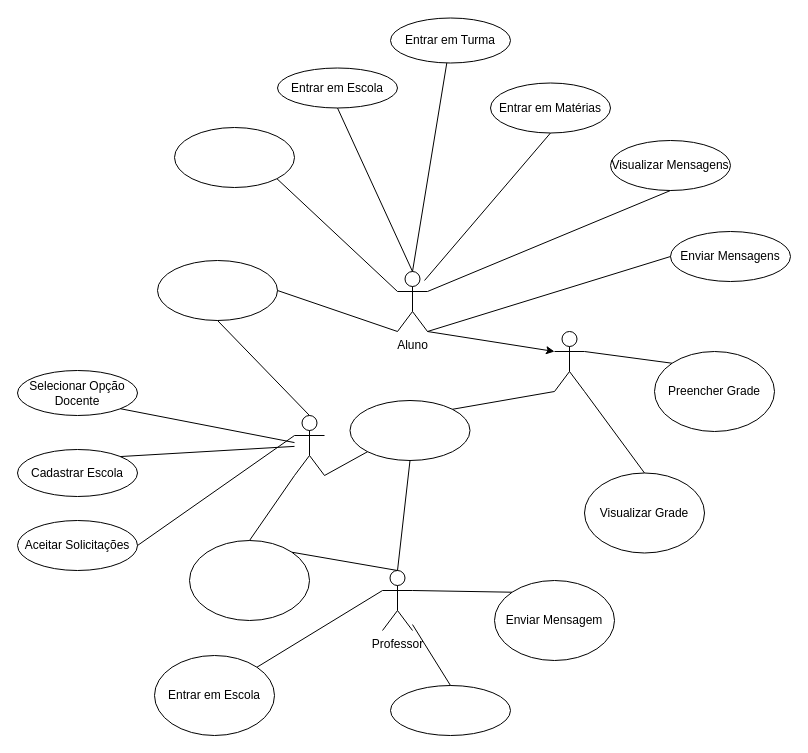
The diagram is 808 pixels wide and 753 high, and some of its shapes have lost their labels. The box of each missing label's shape, as (x1, y1, x2, y2) in pixels:
Adicionar Postagem: (188, 540, 310, 620)
Criar Turma: (390, 684, 510, 736)
Docente: (294, 414, 324, 476)
Inserir E-mail e Senha: (349, 400, 470, 460)
Realizar Cadastro: (156, 260, 278, 320)
Selecionar Opção Aluno: (174, 126, 294, 188)
Usuário: (554, 330, 584, 392)
